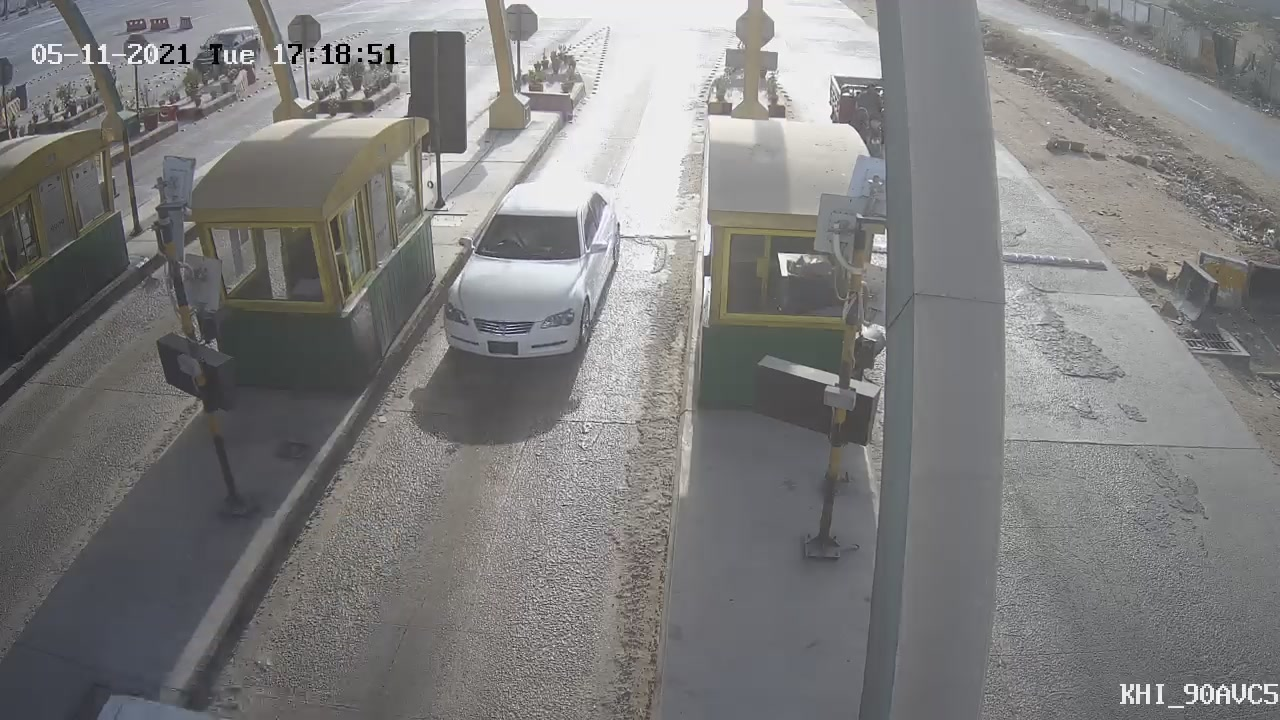F1: (418, 162, 646, 383)
